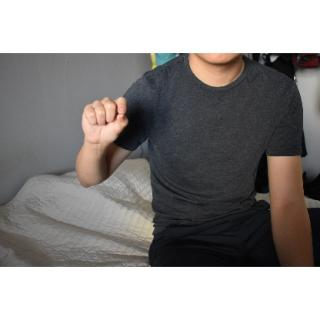FAA: (78, 94, 132, 148)
